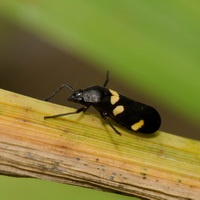insect: (44, 71, 160, 133)
